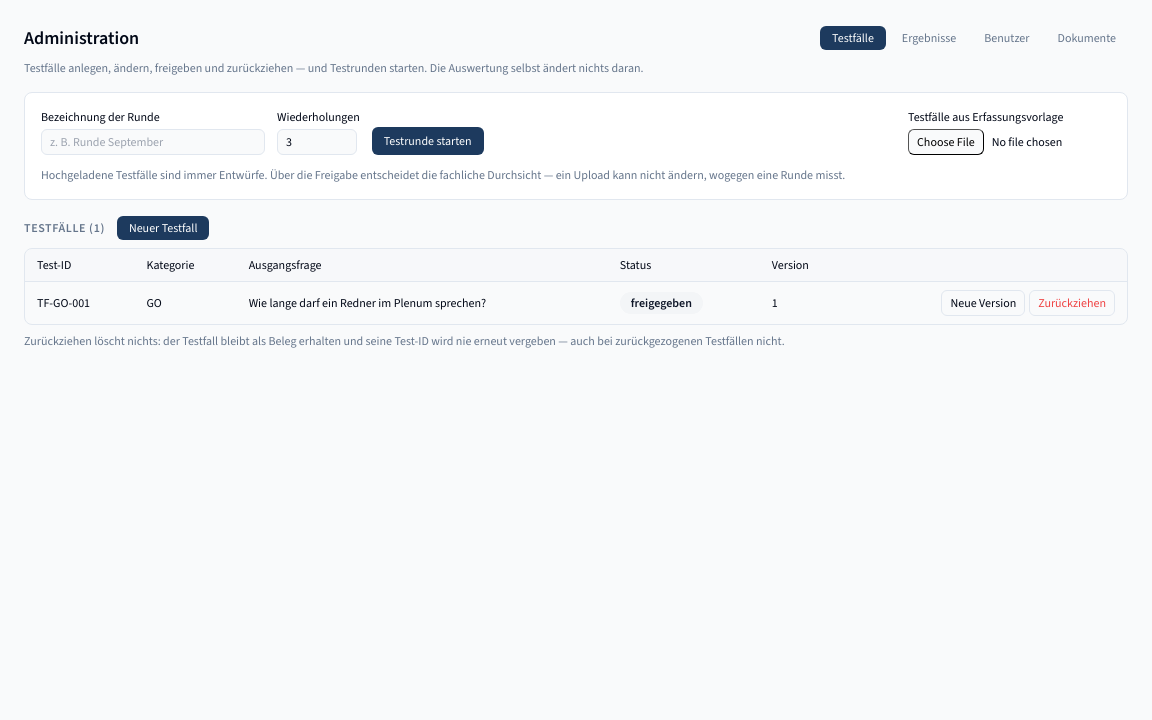
the results are reachable from here too › shows them without changing tabs
Check: the text "TF-GO-001" is shown, box [25,282,134,324]
What coordinates should you click on to do the following:
click the button "Ergebnisse"
I would click on:
 (929, 38)
Its box is [890,26,968,50].
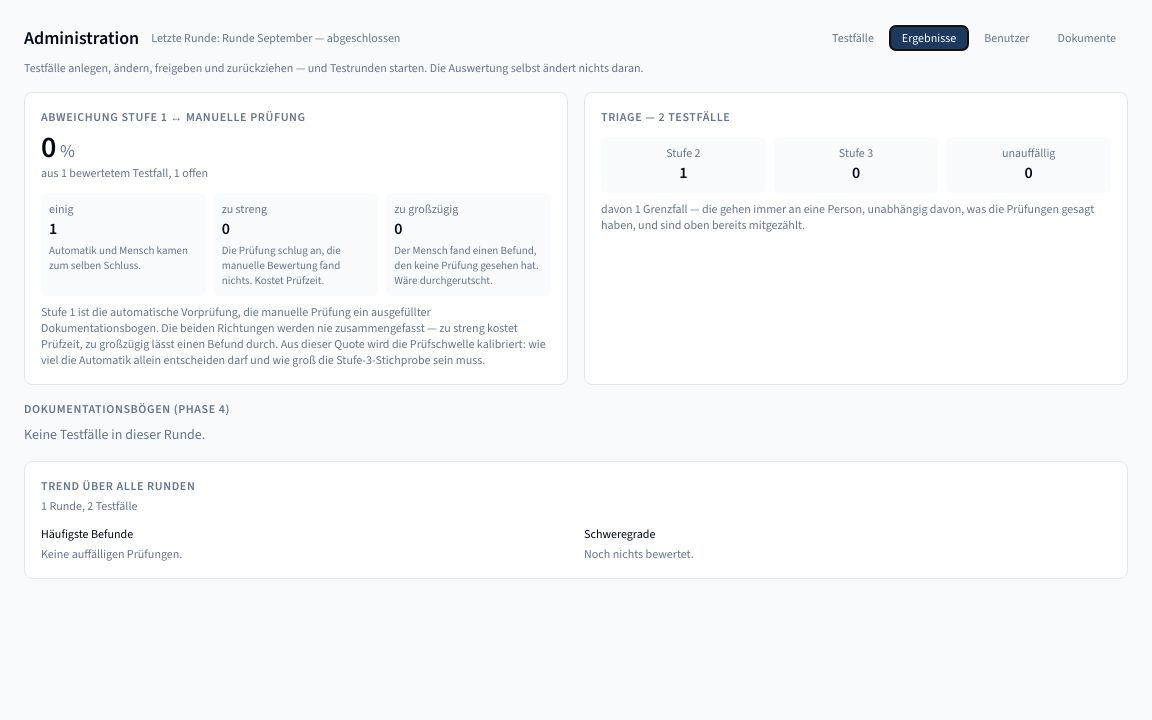
Check: the heading "Abweichung Stufe 1 ↔ manuelle Prüfung" is shown, box [41,109,306,125]
